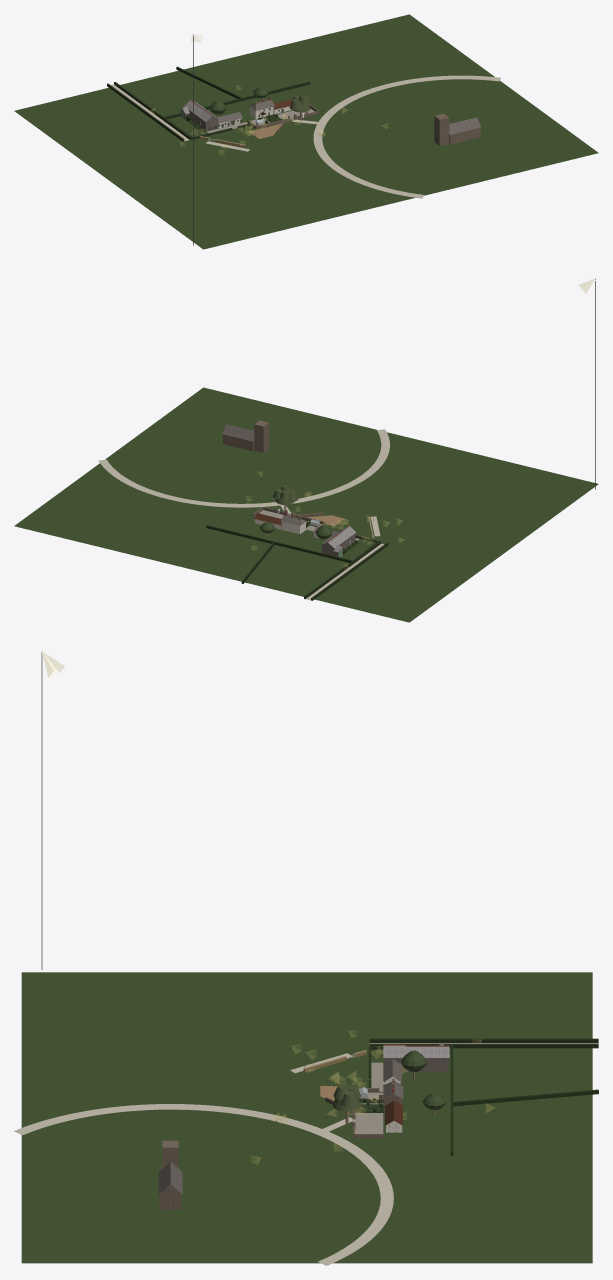
The model's file is tymawr.glb.
3 views of the same model, one above another, from view 1: azimuth 30°, elevation 25°; view 2: azimuth 150°, elevation 25°; view 3: azimuth 270°, elevation 25° (orthographic). The views are drawn at different scales.
Visible parts, largest first — view 1: tymawr; view 2: tymawr; view 3: tymawr.
Boxes of the visible parts, box(x1,y1,x2,y2) form: tymawr: box(14, 14, 598, 249); tymawr: box(14, 278, 598, 622); tymawr: box(14, 651, 598, 1265).
Bounding box in the file's own units: 240 × 120 × 200.
Materials: 36 (7 with a texture image).
